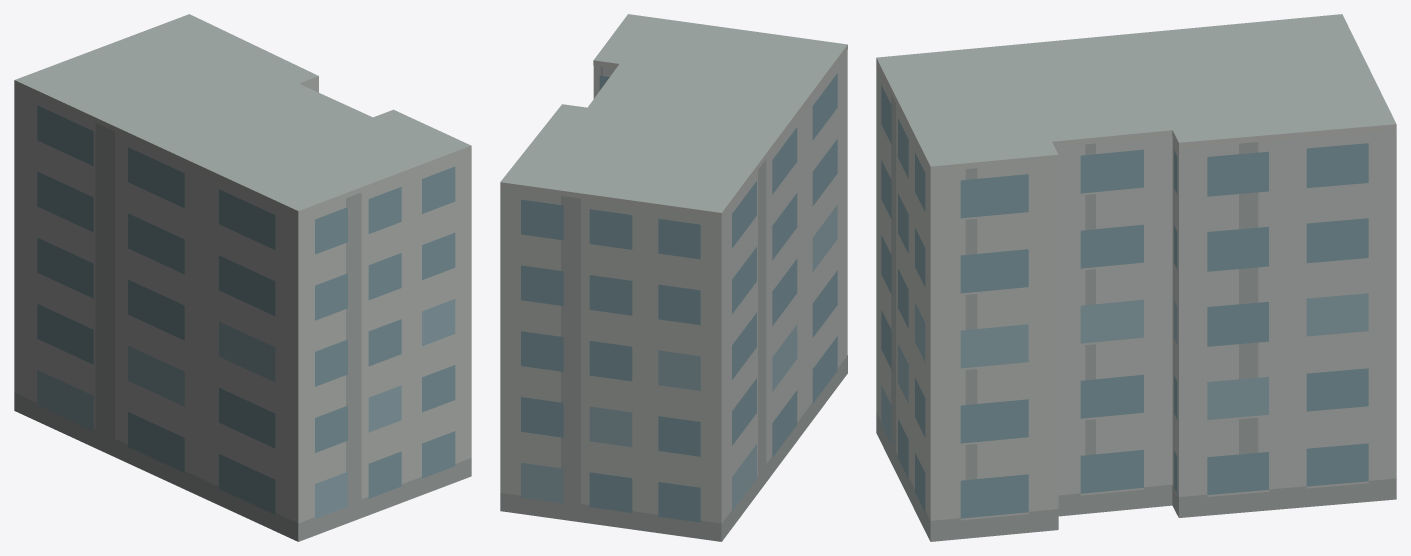
The model's file is survey-upis-32806866.glb.
3 renders of one model, left to right at view 1: azimuth 30°, elevation 25°; view 2: azimuth 150°, elevation 25°; view 3: azimuth 270°, elevation 25°, orthographic. The views are drawn at different scales.
Parts seen in each view (by area): view 1: survey-upis-32806866.tmp; view 2: survey-upis-32806866.tmp; view 3: survey-upis-32806866.tmp.
Boxes of the visible parts, x1,y1,x2,y2 form: survey-upis-32806866.tmp: (14,14,471,541); survey-upis-32806866.tmp: (500,14,847,541); survey-upis-32806866.tmp: (876,14,1396,541).
Size of the model in its own units: 13.44 by 15.4 by 19.36.
